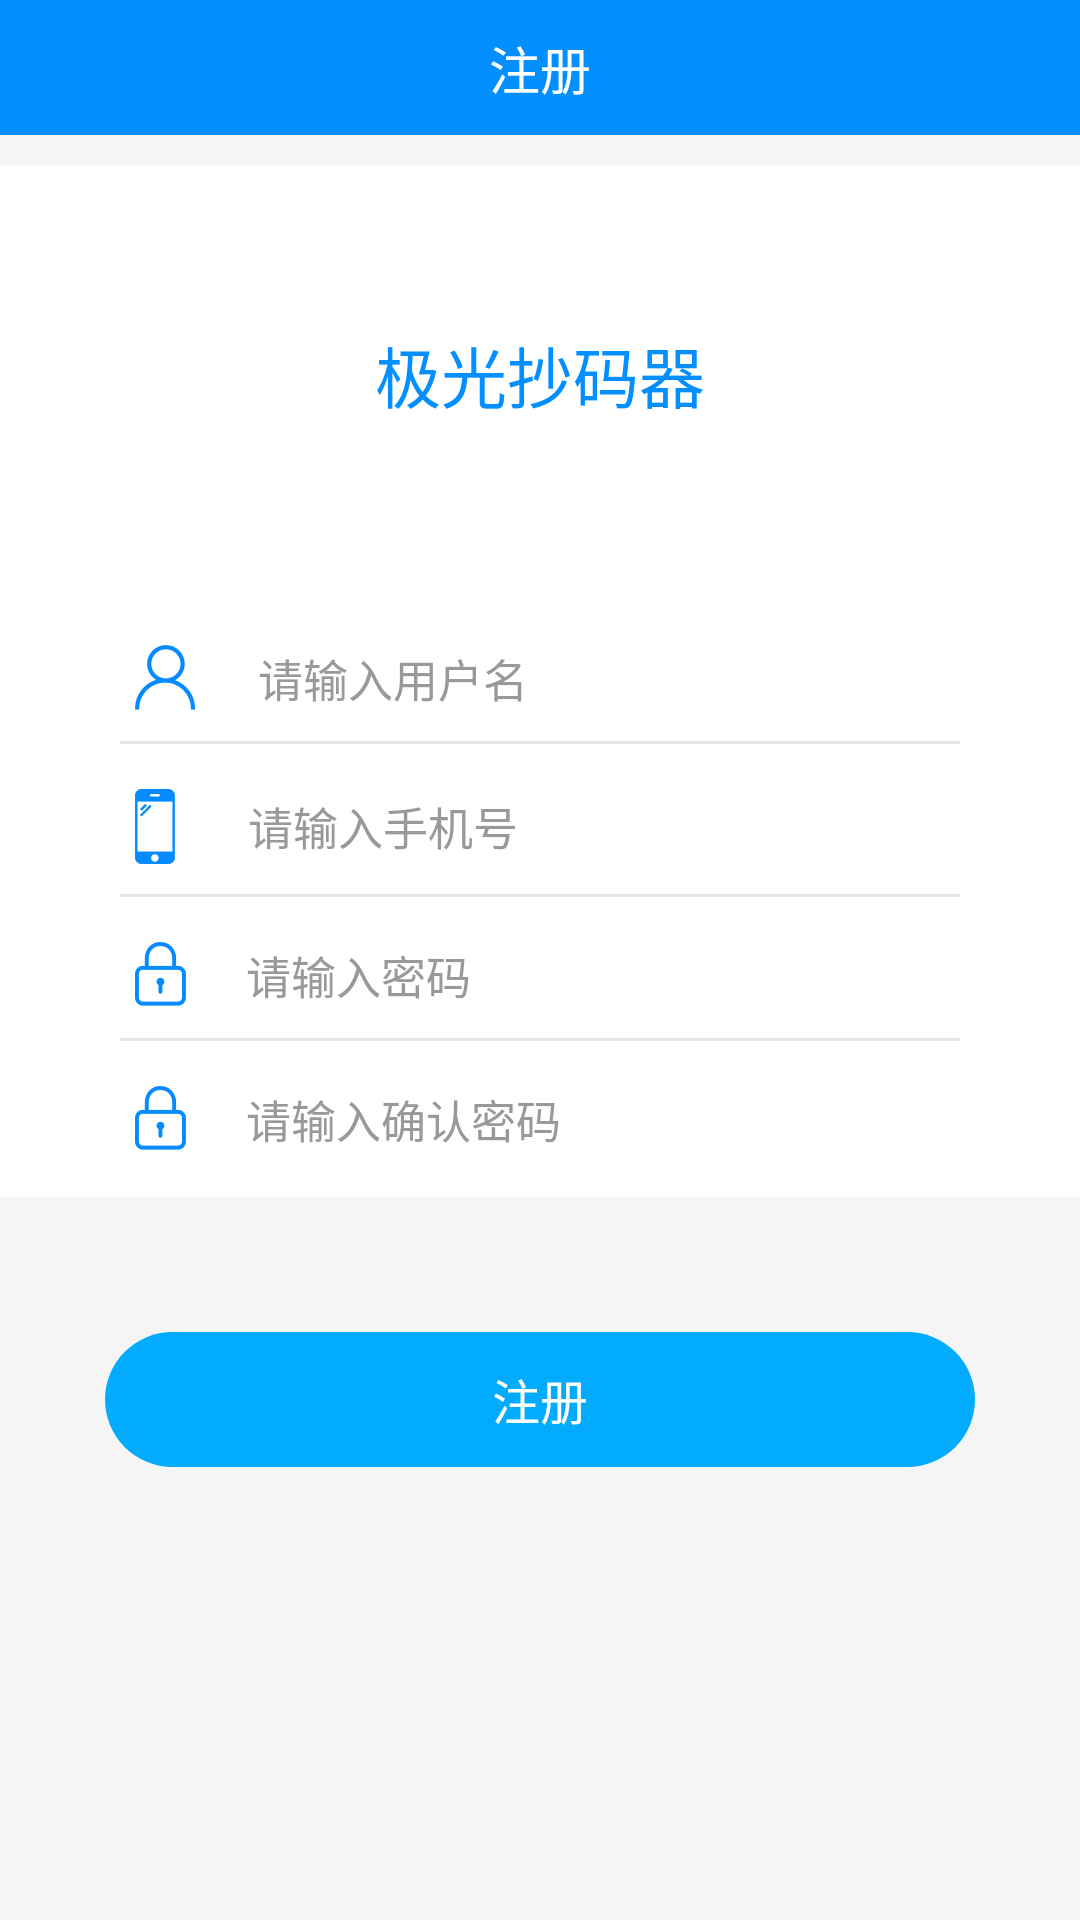

Point at icon controls on the screen. Image size 1080 × 1920, points as (x,y).
phone: (155,826)
